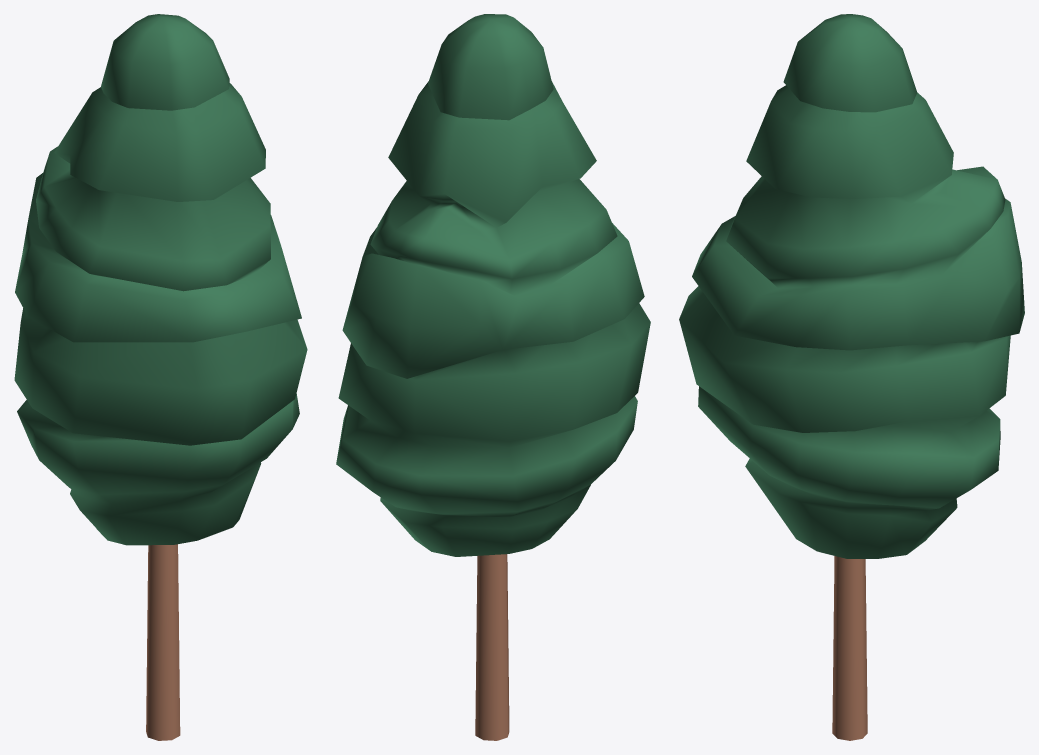
File: TreeA2.fbx
The picture shows the model from 3 angles, left to right: view 1: azimuth 30°, elevation 25°; view 2: azimuth 150°, elevation 25°; view 3: azimuth 270°, elevation 25°; orthographic projection.
Visible parts, largest first — view 1: Tree_A2; view 2: Tree_A2; view 3: Tree_A2.
Part boxes in pixels (box(x1,y1,x2,y2)): Tree_A2: box(14, 14, 307, 740); Tree_A2: box(336, 14, 650, 740); Tree_A2: box(679, 14, 1024, 740).
Bounding box in the file's own units: 115 × 307 × 135.
